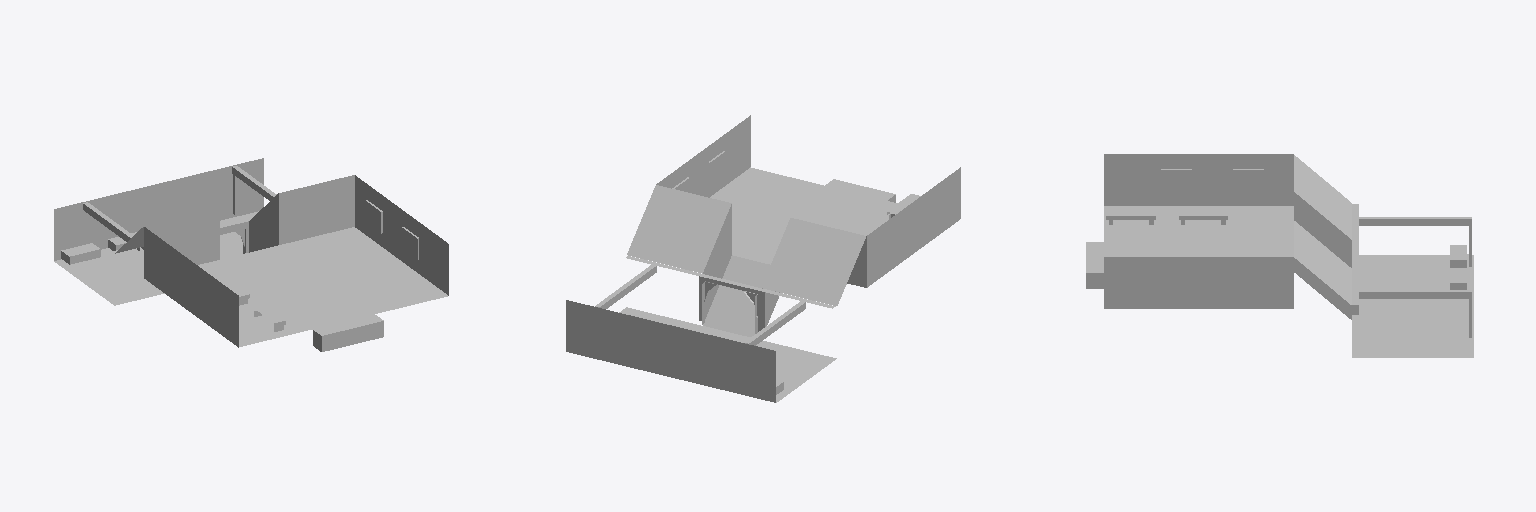
Rendered from HOTEL-B1-3.obj.
3 views of the same model, side by side, from view 1: azimuth 30°, elevation 25°; view 2: azimuth 150°, elevation 25°; view 3: azimuth 270°, elevation 25° (orthographic).
Visible parts, largest first — view 1: Indoor_All_v2_06; view 2: Indoor_All_v2_06; view 3: Indoor_All_v2_06.
Part boxes in pixels (x1,y1,x2,y2): Indoor_All_v2_06: (54, 158, 448, 351); Indoor_All_v2_06: (566, 115, 960, 402); Indoor_All_v2_06: (1086, 154, 1473, 357).
Size of the model in its own units: 216 by 99 by 344.